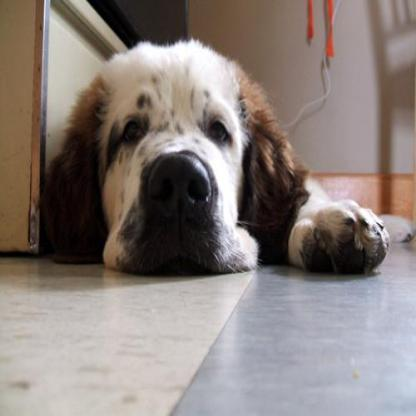Saint_Bernard: (42, 34, 390, 276)
